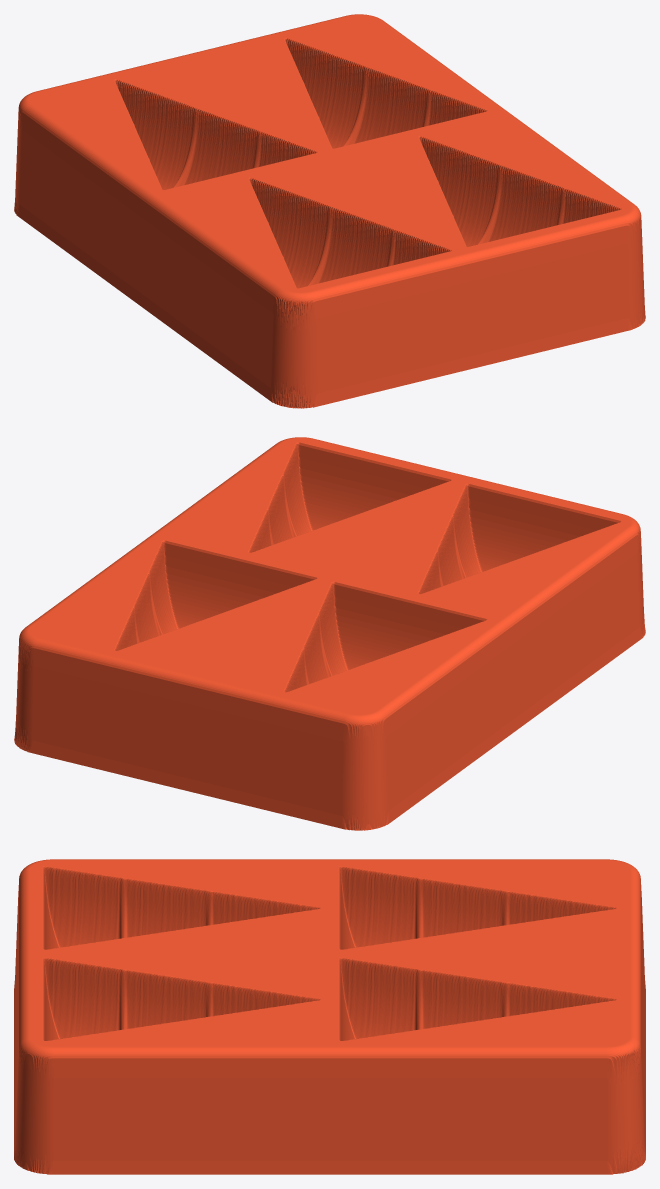
Rendered from mold.glb.
The picture shows the model from 3 angles, top to bottom: view 1: azimuth 30°, elevation 25°; view 2: azimuth 150°, elevation 25°; view 3: azimuth 270°, elevation 25°; orthographic projection. The views are drawn at different scales.
Visible parts, largest first — view 1: geometry_0; view 2: geometry_0; view 3: geometry_0.
Part boxes in pixels (box(x1,y1,x2,y2)): geometry_0: box(14, 14, 645, 408); geometry_0: box(14, 437, 645, 830); geometry_0: box(14, 859, 645, 1174).
Size of the model in its own units: 0.1096 by 0.031 by 0.1466.
